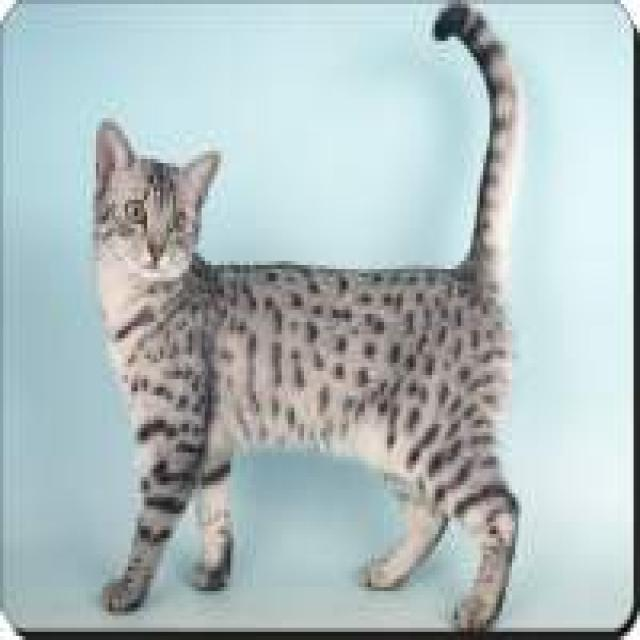Egyptian_Mau: (90, 114, 215, 277)
